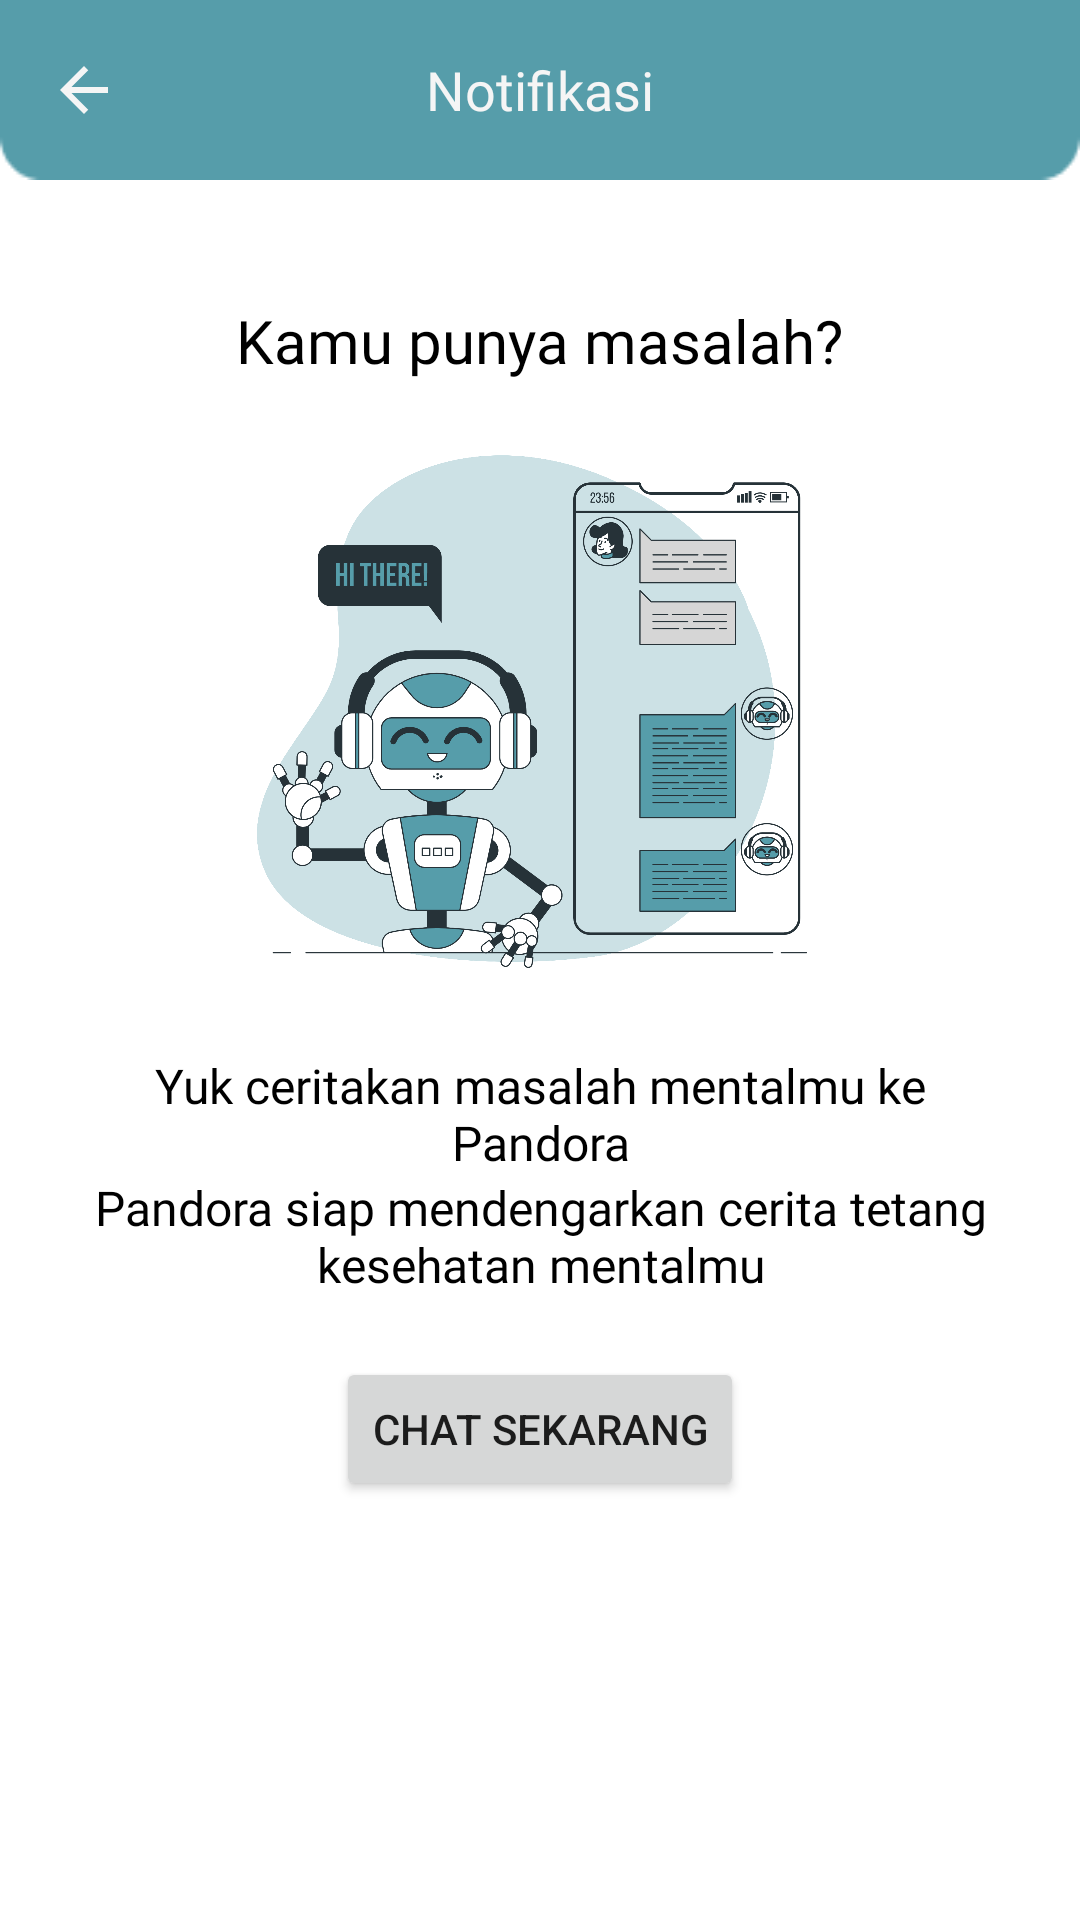

Icon bounding boxes for this 1080×1920 phone screenshot, format box=[x1, y1, x2, y2]:
arrow back: box=[60, 66, 108, 114]
